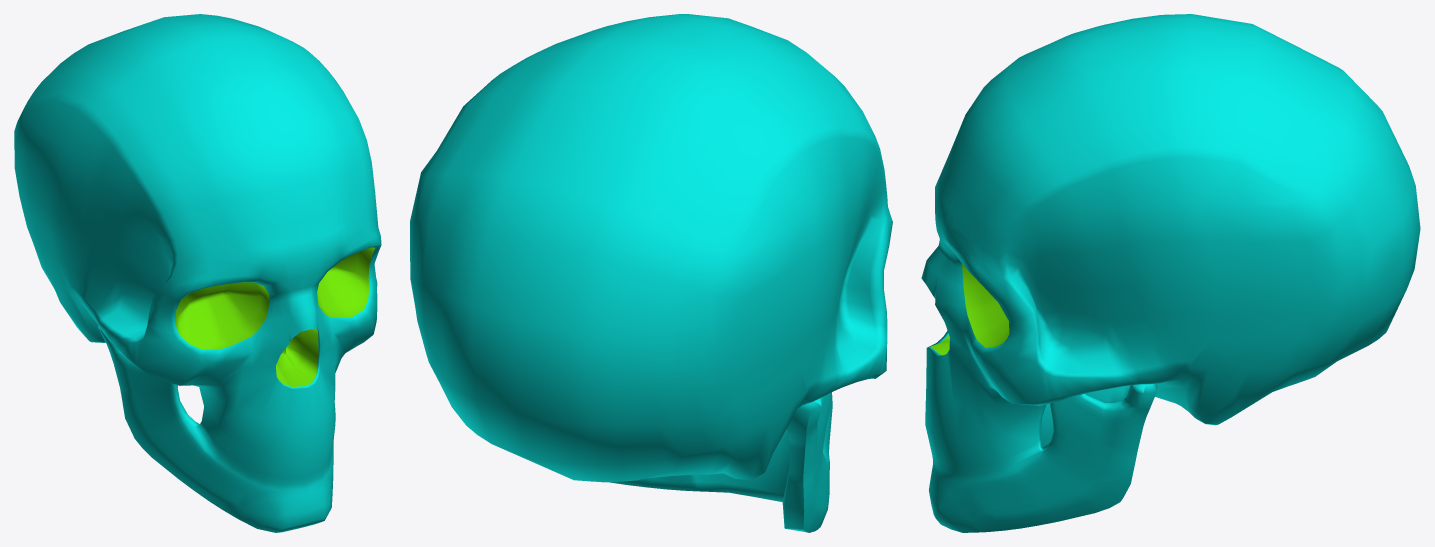
File: Skull.fbx
3 renders of one model, left to right at view 1: azimuth 30°, elevation 25°; view 2: azimuth 150°, elevation 25°; view 3: azimuth 270°, elevation 25°, orthographic. The views are drawn at different scales.
Visible parts, largest first — view 1: Human_Skull_High:Skull; view 2: Human_Skull_High:Skull; view 3: Human_Skull_High:Skull.
Part boxes in pixels (bbox=[...]): Human_Skull_High:Skull: bbox=[14, 14, 381, 532]; Human_Skull_High:Skull: bbox=[410, 14, 892, 532]; Human_Skull_High:Skull: bbox=[921, 14, 1420, 532].
Size of the model in its own units: 46.18 by 68.43 by 63.73.
